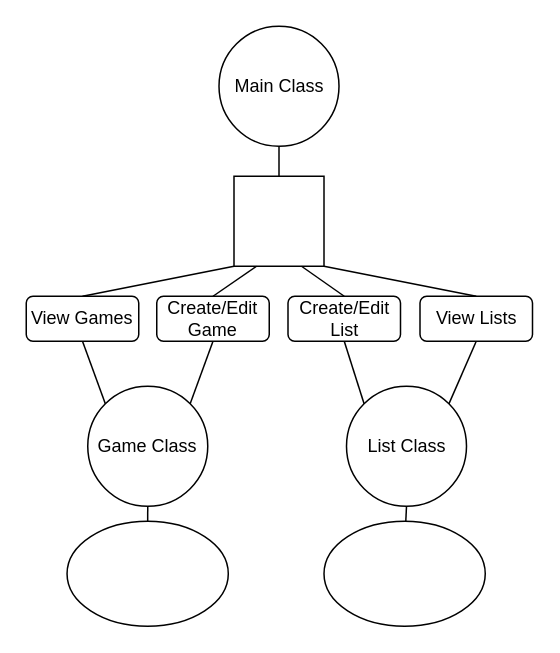
Image size: 560x653. Some labels were removed from this diagram. The shapes that lost their labels are listed below. From the top down, each one's centre as x and y in pixels, then its label:
At (x=278, y=220): "Asks user for action".
At (x=147, y=573): "Rating, review, price, hours, name, etc.".
At (x=403, y=573): "Games, name, total hours, total cost, etc.".
